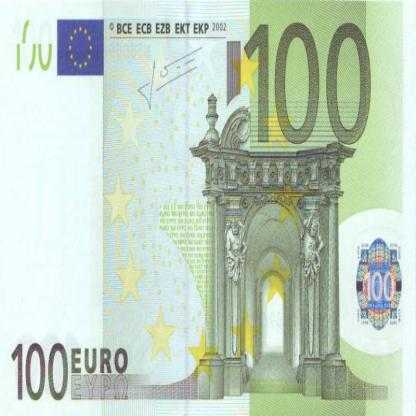euro_banknote: (1, 4, 416, 415)
